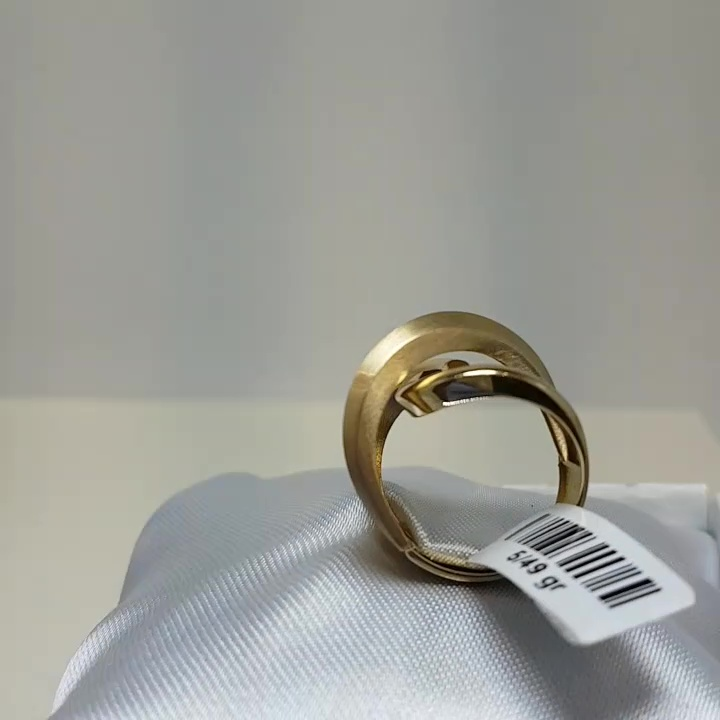Ring 3: (293, 292, 599, 635)
